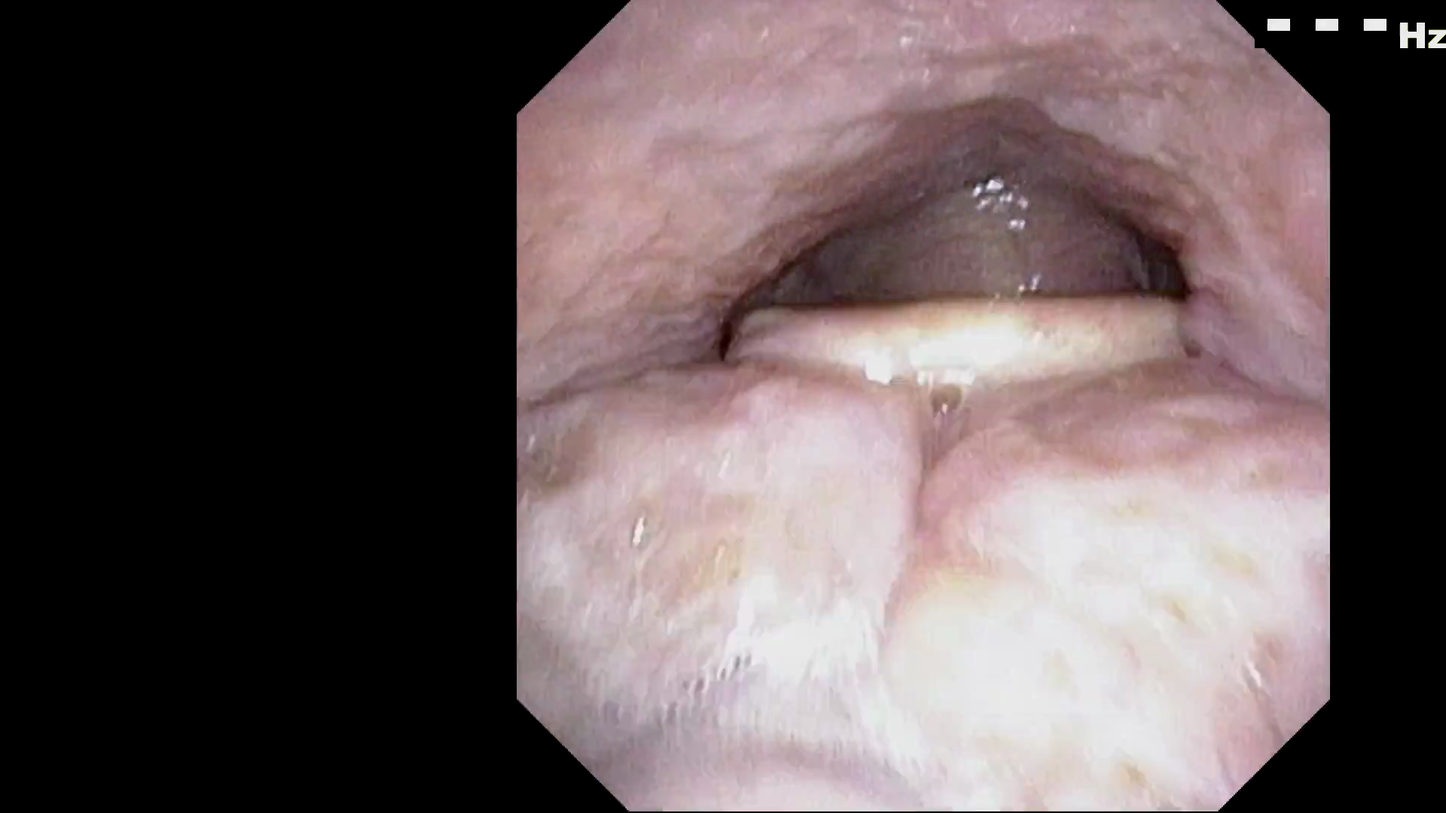epiglottis: (677, 244, 1275, 524)
trachea: (903, 172, 1067, 369)
